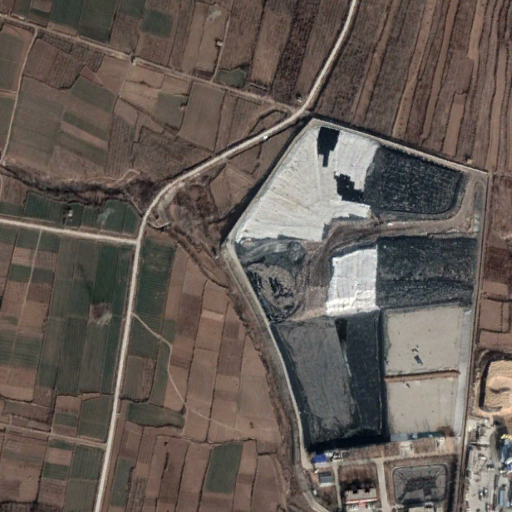lf: (216, 113, 490, 456)
